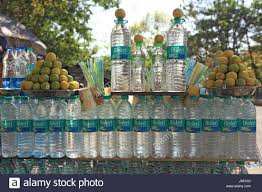Bisleri: (150, 119, 173, 134), (110, 44, 130, 60), (166, 44, 186, 58), (69, 119, 86, 134), (50, 120, 67, 133), (99, 118, 114, 132), (202, 119, 221, 130), (240, 117, 257, 129), (188, 117, 198, 136), (18, 120, 34, 131), (84, 119, 97, 131), (224, 119, 236, 132), (2, 121, 16, 132), (117, 118, 129, 130), (134, 120, 146, 132), (174, 119, 186, 131), (37, 120, 50, 131)
plastic: (222, 107, 244, 172), (110, 24, 131, 91), (133, 48, 164, 88), (165, 28, 183, 92), (203, 106, 220, 161), (153, 106, 170, 159), (67, 107, 85, 157), (116, 102, 132, 157), (186, 102, 200, 160), (137, 103, 151, 156), (102, 97, 113, 154), (174, 111, 184, 158)
